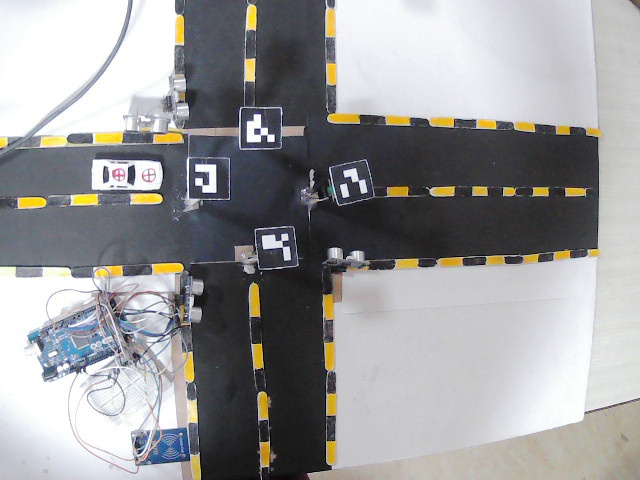aruco_marker: (185, 153, 235, 202), (237, 103, 283, 153), (251, 223, 298, 271), (330, 159, 375, 205)
emergency_vehicle: (88, 159, 166, 192)
uno_breadboard: (22, 287, 142, 384), (80, 351, 173, 426), (127, 425, 192, 473), (120, 112, 171, 138), (327, 245, 371, 273), (182, 274, 205, 326), (168, 69, 189, 123)
